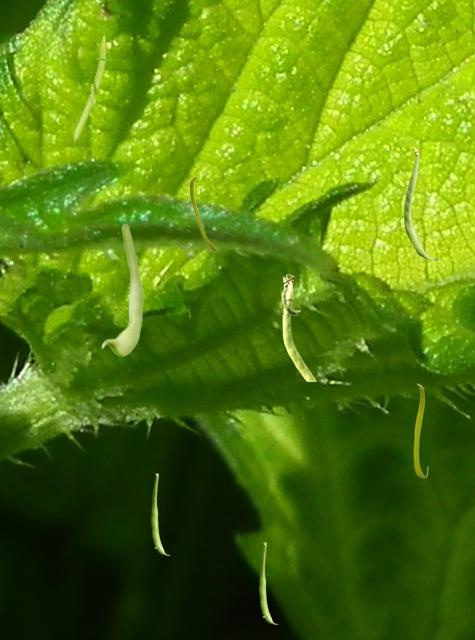french_bean: (101, 223, 142, 355), (72, 33, 106, 152), (404, 146, 438, 259), (281, 274, 315, 380), (189, 176, 217, 250), (151, 473, 169, 554), (259, 542, 277, 623), (413, 383, 427, 477)
